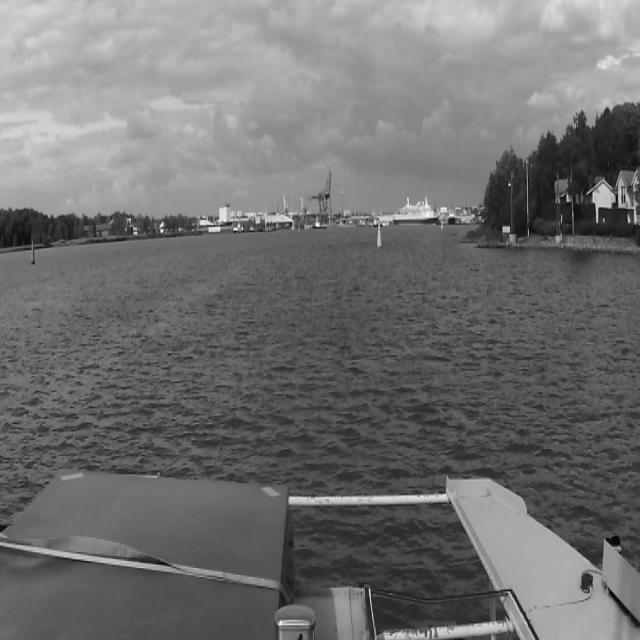buoy: (377, 220, 383, 247), (31, 241, 36, 263)
ship: (393, 196, 439, 226)
